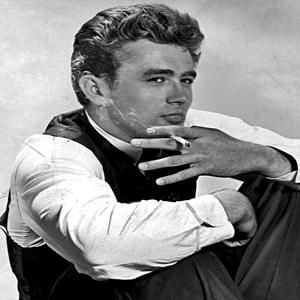cigarette: (173, 133, 194, 150)
